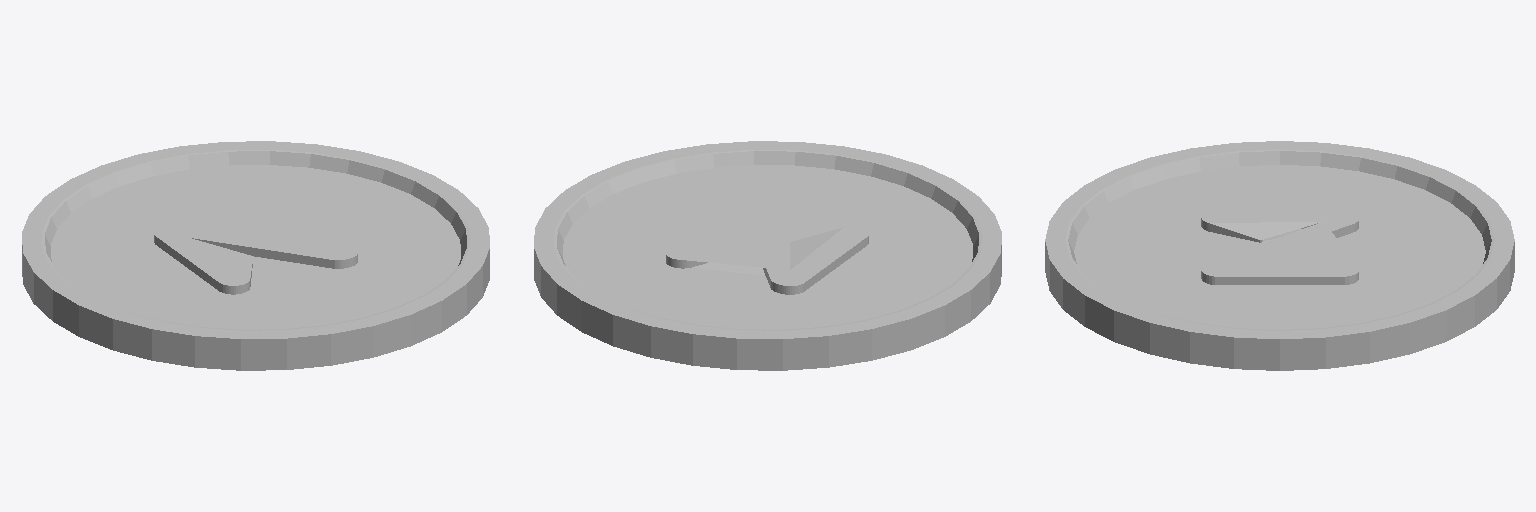
File: moneybronze.obj
3 renders of one model, left to right at view 1: azimuth 30°, elevation 25°; view 2: azimuth 150°, elevation 25°; view 3: azimuth 270°, elevation 25°, orthographic.
Visible parts, largest first — view 1: money1_Куб.089; view 2: money1_Куб.089; view 3: money1_Куб.089.
Part boxes in pixels (bbox=[...]): money1_Куб.089: bbox=[22, 141, 489, 370]; money1_Куб.089: bbox=[534, 141, 1001, 370]; money1_Куб.089: bbox=[1045, 141, 1514, 370].
Bounding box in the file's own units: 0.3578 × 0.0266 × 0.3578.